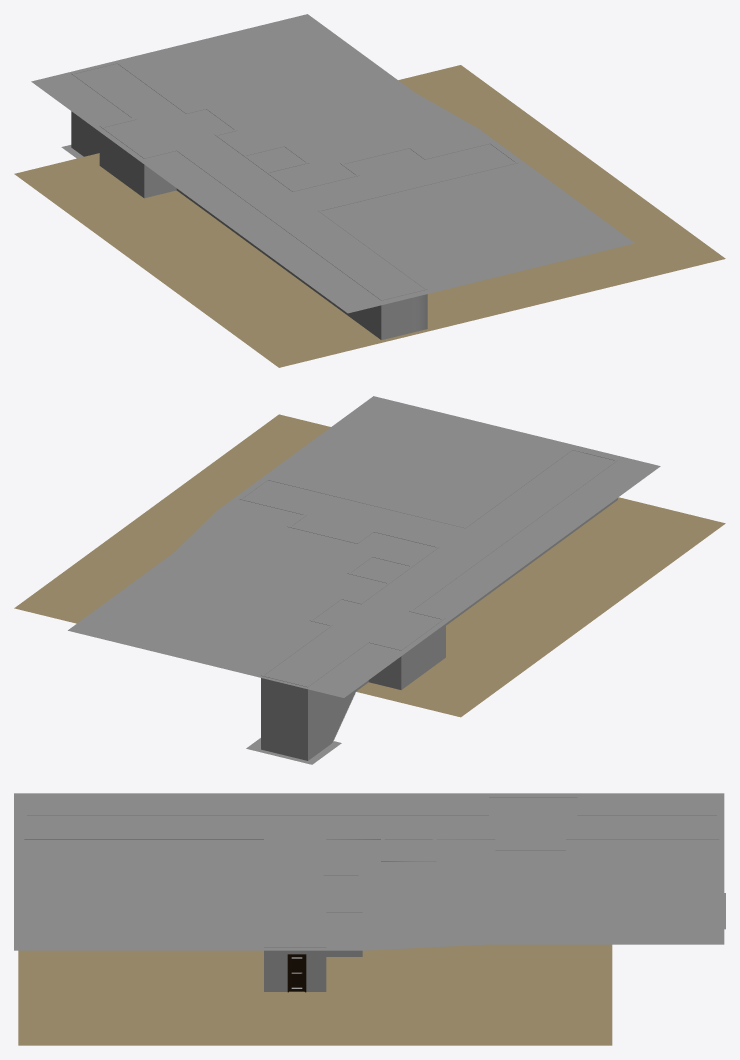
The picture shows the model from 3 angles, top to bottom: view 1: azimuth 30°, elevation 25°; view 2: azimuth 150°, elevation 25°; view 3: azimuth 270°, elevation 25°; orthographic projection. The views are drawn at different scales.
Parts seen in each view (by area): view 1: Plane003, Plane001, Wall001; view 2: Plane003, Plane001, Wall001; view 3: Plane003, Plane001, Wall001.
Boxes of the visible parts, box(x1,y1,x2,y2) form: Plane003: box(31, 14, 634, 313); Plane001: box(14, 65, 725, 367); Wall001: box(71, 62, 518, 340); Plane003: box(68, 396, 660, 697); Plane001: box(14, 414, 725, 717); Wall001: box(239, 449, 617, 760); Plane003: box(14, 793, 724, 950); Plane001: box(18, 944, 612, 1045); Wall001: box(24, 796, 719, 991).
Bounding box in the file's own units: 1130 × 180 × 1391.
